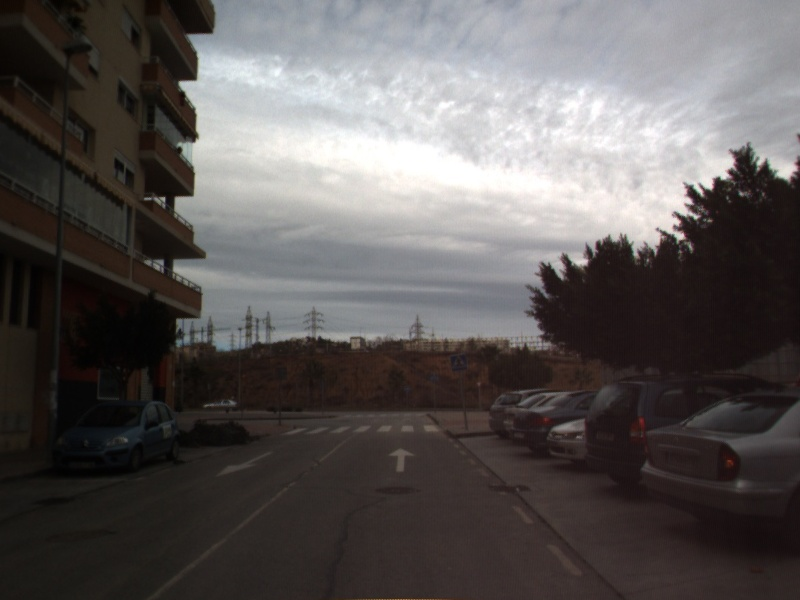STRAIGHT: (386, 446, 418, 474)
